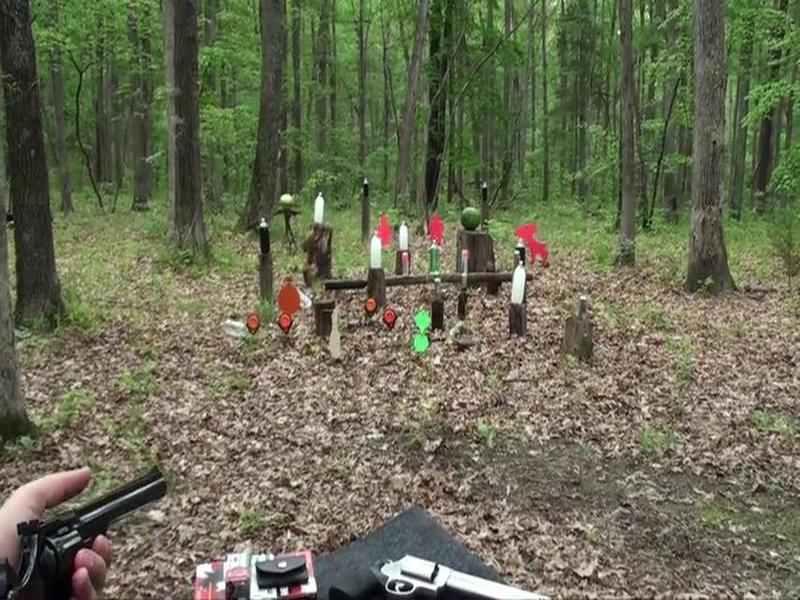Revolver: (3, 451, 180, 600)
